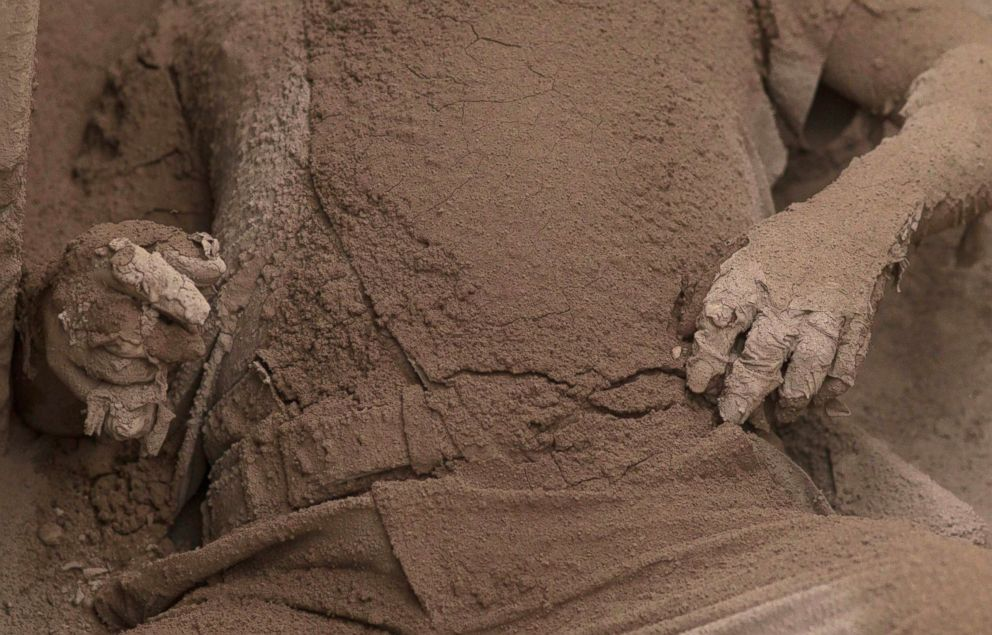Korban: (30, 0, 992, 635)
